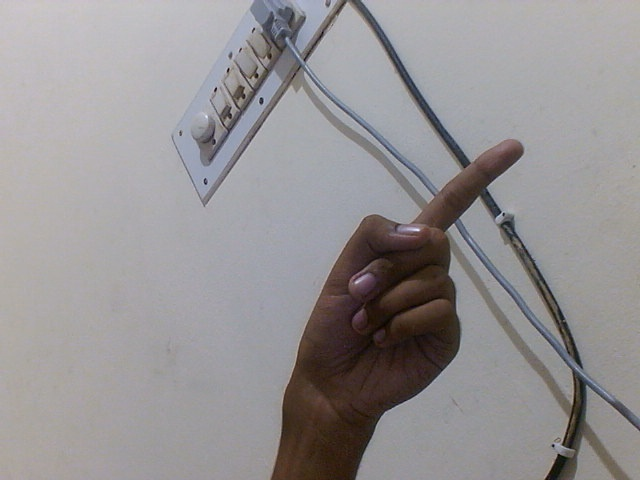hand: (289, 135, 529, 434)
